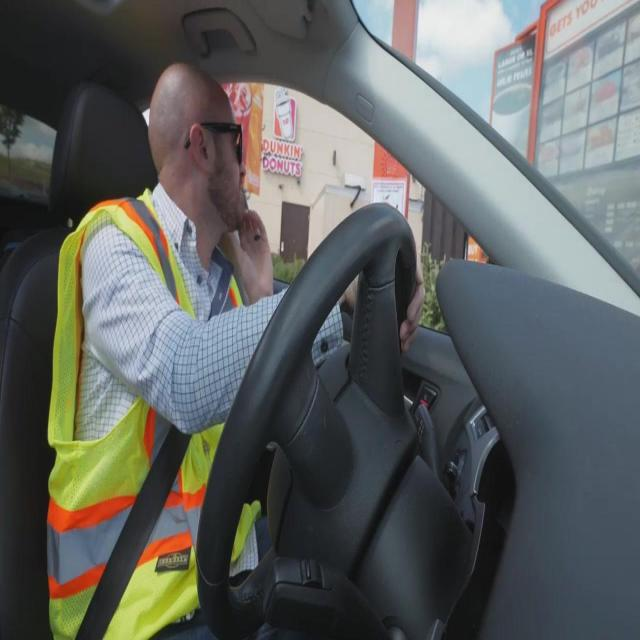Vest: (47, 182, 262, 639)
